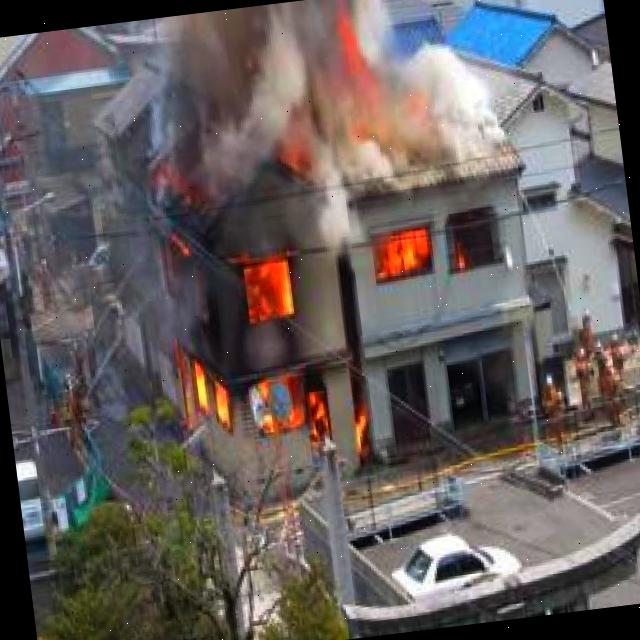fire: (156, 234, 354, 492), (331, 50, 426, 154), (374, 214, 458, 288)
